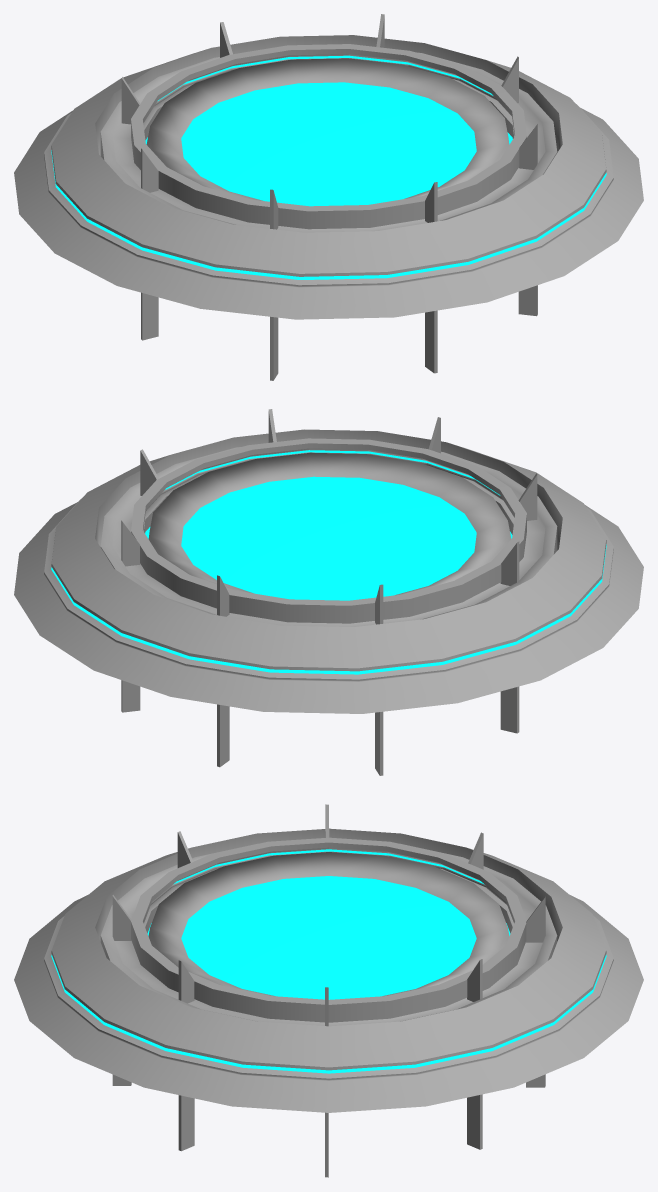
File: VR Teleport.fbx
3 renders of one model, top to bottom at view 1: azimuth 30°, elevation 25°; view 2: azimuth 150°, elevation 25°; view 3: azimuth 270°, elevation 25°, orthographic.
Parts seen in each view (by area): view 1: polySurface36, pTorus2, pTorus1, polySurface23; view 2: polySurface36, pTorus2, pTorus1, polySurface23; view 3: polySurface36, pTorus2, pTorus1, polySurface23.
Boxes of the visible parts, x1,y1,x2,y2 form: polySurface36: (14,35,643,319); pTorus2: (131,44,526,229); pTorus1: (100,52,557,232); polySurface23: (121,14,537,380); polySurface36: (14,429,643,713); pTorus2: (131,438,526,623); pTorus1: (100,447,557,626); polySurface23: (121,409,537,775); polySurface36: (14,828,643,1112); pTorus2: (131,837,526,1022); pTorus1: (100,843,557,1026); polySurface23: (112,804,545,1177).
Size of the model in its own units: 66.67 by 22.19 by 66.67.
